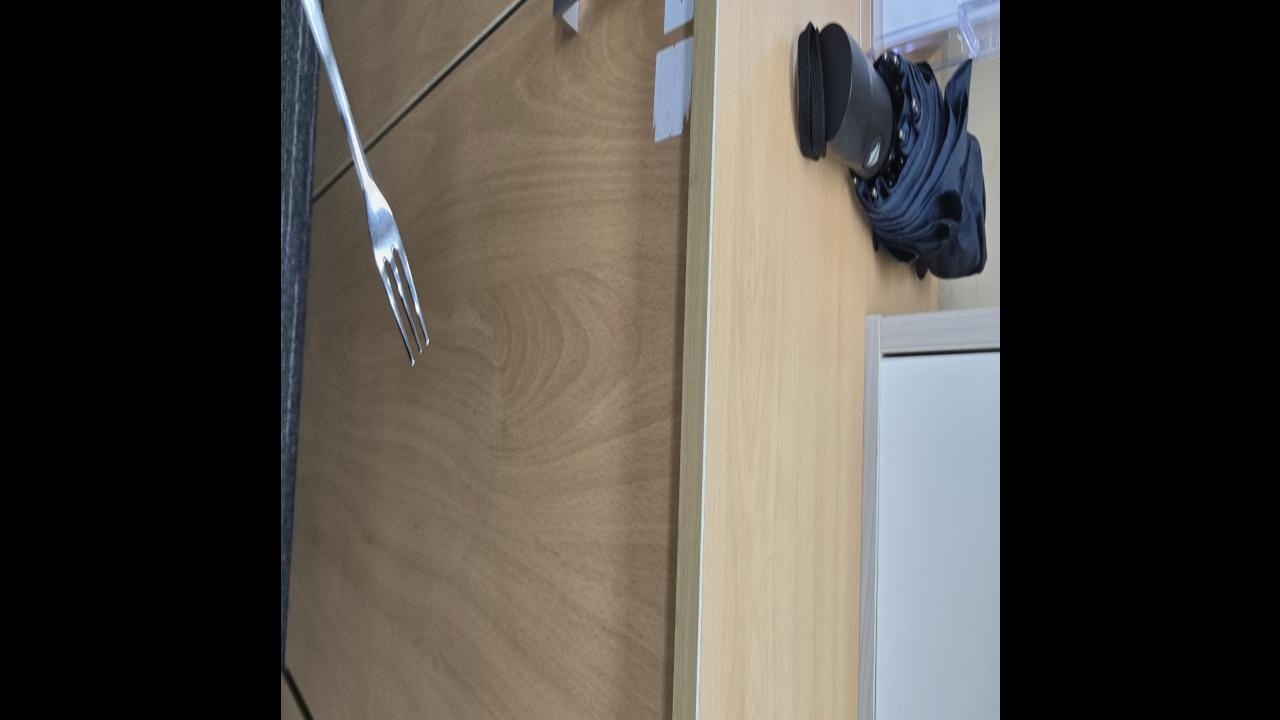fork: (280, 0, 429, 370)
